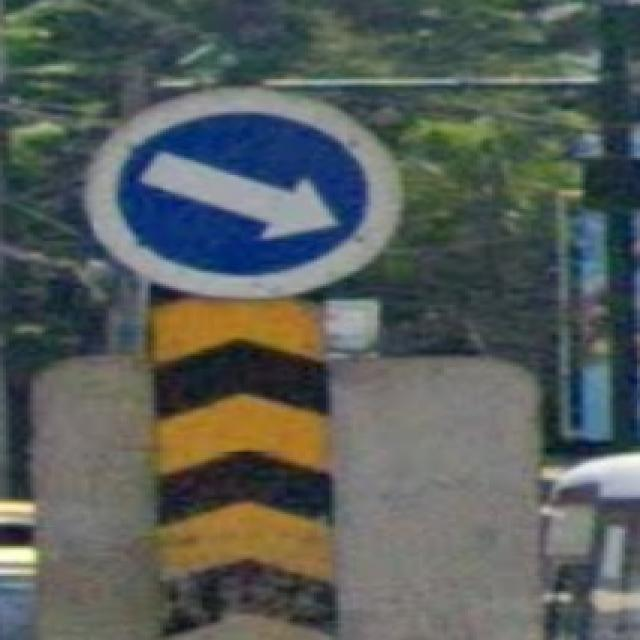keep right: (82, 85, 402, 297)
